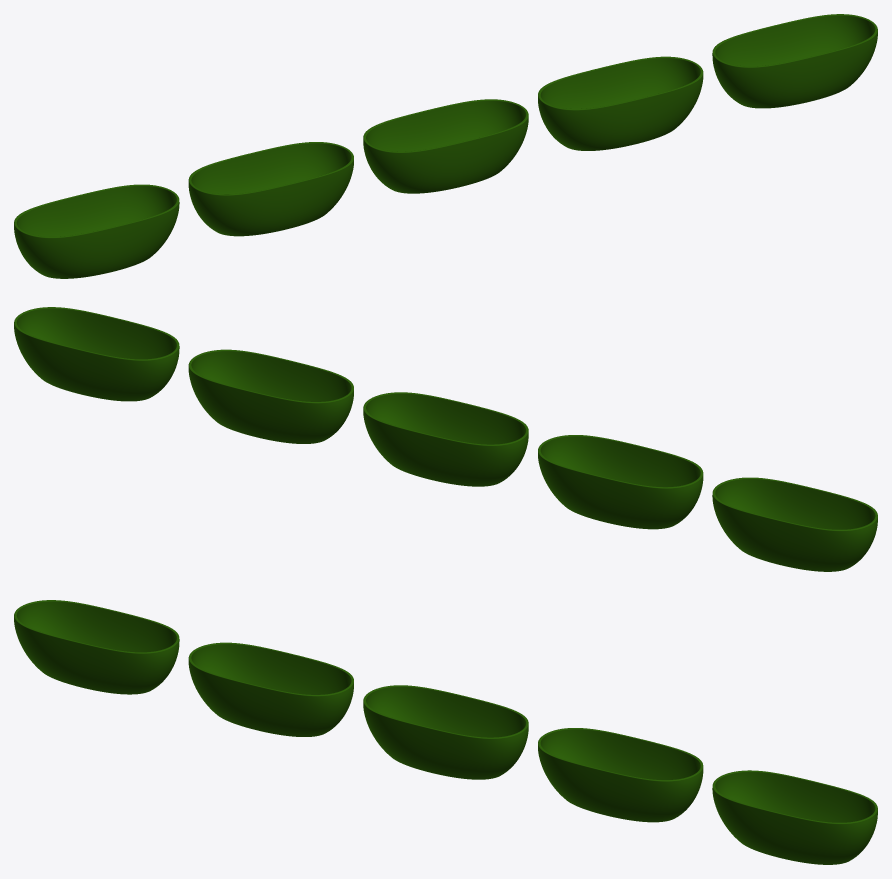
The model's file is abber_aquamarin.glb.
3 renders of one model, top to bottom at view 1: azimuth 30°, elevation 25°; view 2: azimuth 150°, elevation 25°; view 3: azimuth 330°, elevation 25°, orthographic.
Visible parts, largest first — view 1: ABBER_Kristall_AT9703Emerald, ABBER_Kristall_AT9703Amber, ABBER_Kristall_AT9703Rubin, ABBER_Kristall_AT9703Aquamarin, ABBER_Kristall_AT9703Opal; view 2: ABBER_Kristall_AT9703Emerald, ABBER_Kristall_AT9703Aquamarin, ABBER_Kristall_AT9703Amber, ABBER_Kristall_AT9703Rubin, ABBER_Kristall_AT9703Opal; view 3: ABBER_Kristall_AT9703Emerald, ABBER_Kristall_AT9703Rubin, ABBER_Kristall_AT9703Opal, ABBER_Kristall_AT9703Aquamarin, ABBER_Kristall_AT9703Amber.
Part boxes in pixels (x1,y1,x2,y2): ABBER_Kristall_AT9703Emerald: (363,99,528,193); ABBER_Kristall_AT9703Amber: (712,14,877,108); ABBER_Kristall_AT9703Rubin: (14,184,179,278); ABBER_Kristall_AT9703Aquamarin: (538,56,703,150); ABBER_Kristall_AT9703Opal: (188,142,353,236); ABBER_Kristall_AT9703Emerald: (363,392,528,486); ABBER_Kristall_AT9703Aquamarin: (188,349,353,443); ABBER_Kristall_AT9703Amber: (14,307,179,401); ABBER_Kristall_AT9703Rubin: (712,477,877,571); ABBER_Kristall_AT9703Opal: (538,435,703,529); ABBER_Kristall_AT9703Emerald: (363,685,528,779); ABBER_Kristall_AT9703Rubin: (14,600,179,694); ABBER_Kristall_AT9703Opal: (188,642,353,736); ABBER_Kristall_AT9703Aquamarin: (538,728,703,822); ABBER_Kristall_AT9703Amber: (712,770,877,864).
Bounding box in the file's own units: 9357 × 526 × 796.
